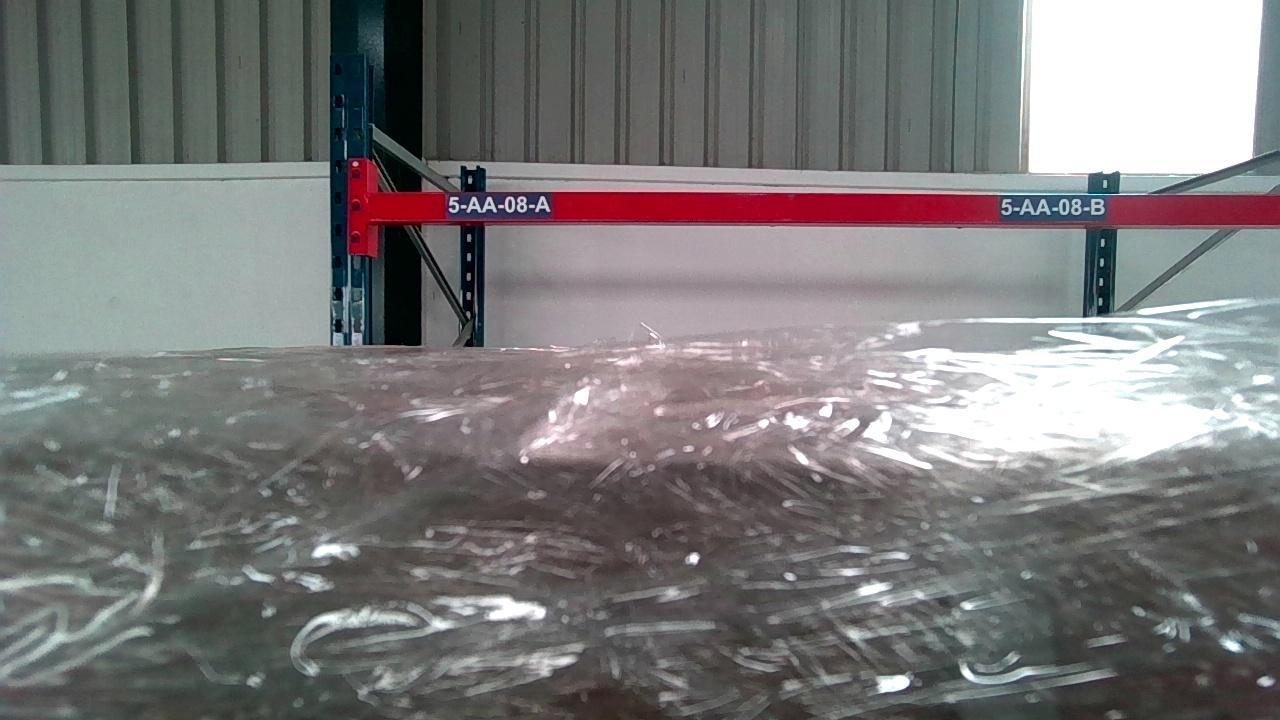h_rack: (371, 188, 1279, 222)
